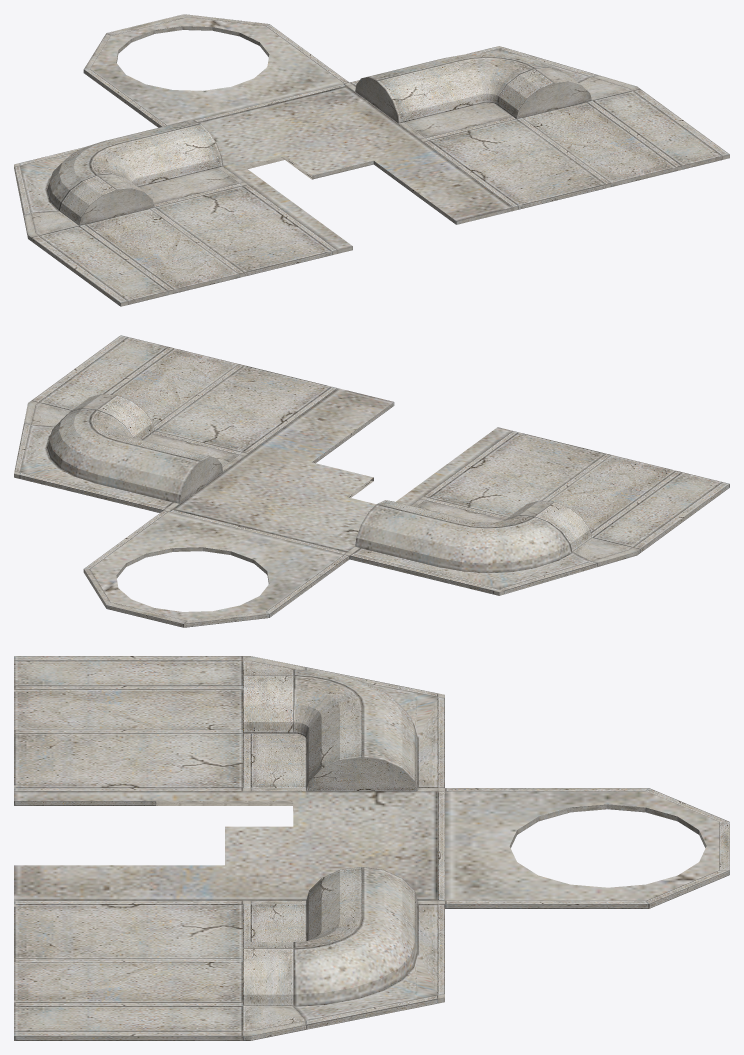
The model's file is SM_SYD_Floor01_Ceiling.fbx.
3 views of the same model, one above another, from view 1: azimuth 30°, elevation 25°; view 2: azimuth 150°, elevation 25°; view 3: azimuth 270°, elevation 25° (orthographic). The views are drawn at different scales.
Parts seen in each view (by area): view 1: SM_SYD_Floor01_Ceiling; view 2: SM_SYD_Floor01_Ceiling; view 3: SM_SYD_Floor01_Ceiling.
Part boxes in pixels (x1,y1,x2,y2): SM_SYD_Floor01_Ceiling: (14,14,729,306); SM_SYD_Floor01_Ceiling: (14,335,729,627); SM_SYD_Floor01_Ceiling: (14,656,729,1040).
Size of the model in its own units: 11800 by 563 by 9400.
